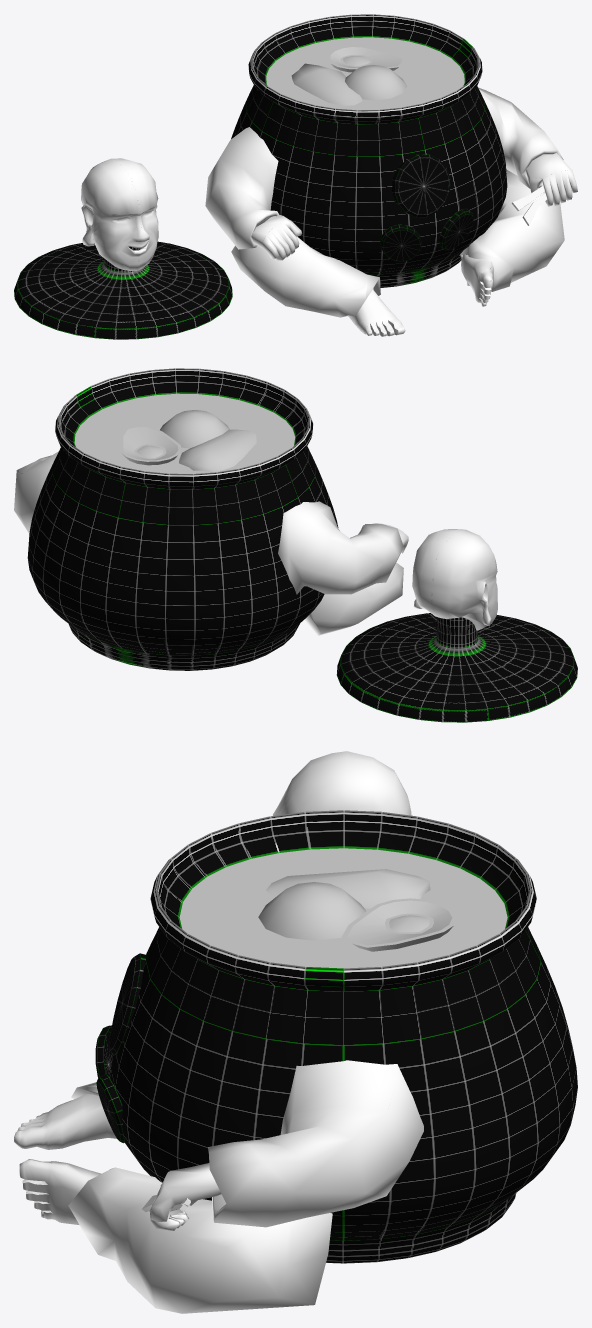
Rendered from Buddha Jump over the wall.FBX.
3 views of the same model, one above another, from view 1: azimuth 30°, elevation 25°; view 2: azimuth 150°, elevation 25°; view 3: azimuth 270°, elevation 25° (orthographic). The views are drawn at different scales.
Visible parts, largest first — view 1: Group001.001, Teapot001, Box031.001, Cylinder001.001, Box011.001, Box001.001, Box006.001, Box002.001, ChamferCyl001.001, Box009.001, spinach, fish ball (+7 smaller); view 2: Group001.001, Teapot001, Cylinder001.001, Box001.001, Box031.001, Box011.001, spinach, abalone, fish ball, Box002.001; view 3: Teapot001, Group001.001, Box002.001, Box006.001, Cylinder001.001, Box031.001, fish ball, abalone, Cylinder00aaa001, spinach, Cylinder00aaa003, Box009.001 (+3 smaller).
Part boxes in pixels (x1,y1,x2,y2): Group001.001: (14, 14, 484, 339); Teapot001: (231, 96, 507, 274); Box031.001: (81, 158, 158, 271); Cylinder001.001: (266, 37, 464, 110); Box011.001: (231, 236, 380, 317); Box001.001: (205, 127, 278, 249); Box006.001: (459, 169, 564, 291); Box002.001: (478, 87, 563, 188); ChamferCyl001.001: (392, 154, 450, 217); Box009.001: (526, 153, 577, 206); spinach: (291, 63, 362, 105); fish ball: (345, 65, 407, 100); Group001.001: (52, 368, 577, 722); Teapot001: (27, 457, 338, 655); Cylinder001.001: (74, 393, 295, 473); Box001.001: (278, 501, 403, 594); Box031.001: (412, 529, 497, 630); Box011.001: (304, 562, 403, 635); spinach: (179, 429, 256, 472); abalone: (120, 425, 181, 465); fish ball: (160, 410, 229, 448); Box002.001: (14, 451, 58, 532); Teapot001: (110, 945, 577, 1240); Group001.001: (146, 810, 540, 1263); Box002.001: (208, 1060, 423, 1227); Box006.001: (68, 1167, 332, 1313); Cylinder001.001: (179, 848, 507, 968); Box031.001: (273, 751, 411, 815); fish ball: (258, 882, 366, 940); abalone: (341, 898, 457, 951); Cylinder00aaa001: (14, 1093, 116, 1149); spinach: (266, 869, 430, 908); Cylinder00aaa003: (19, 1159, 101, 1224); Box009.001: (149, 1163, 221, 1230).
Bounding box in the file's own units: 371 × 137 × 218.
